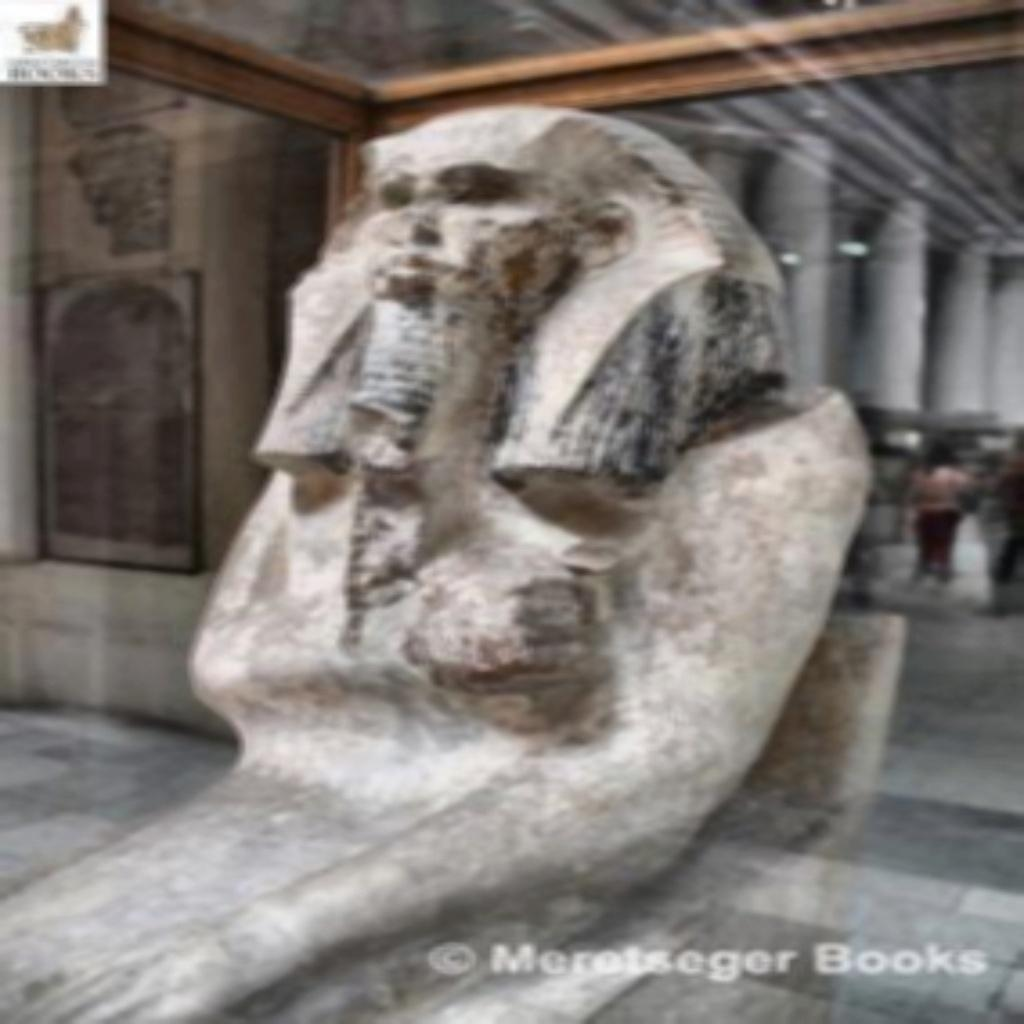Statue of King Zoser: (0, 100, 880, 1022)
